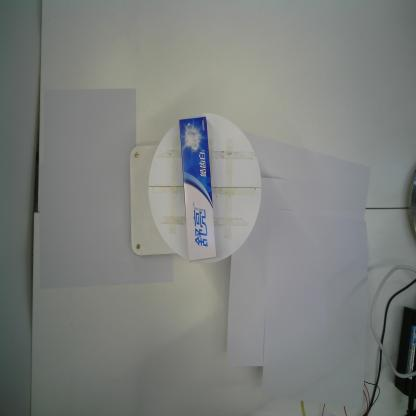Personal Hygiene: (178, 116, 217, 263)
